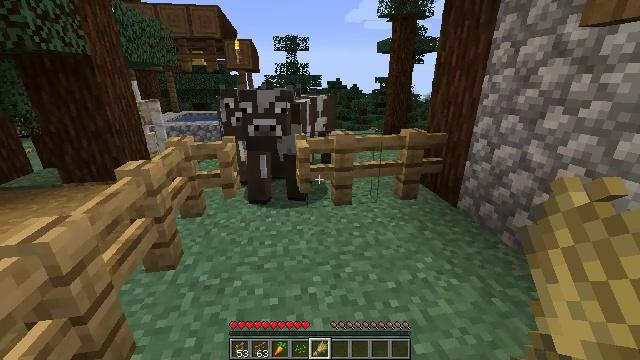cow: (242, 89, 341, 203), (214, 90, 243, 151)
